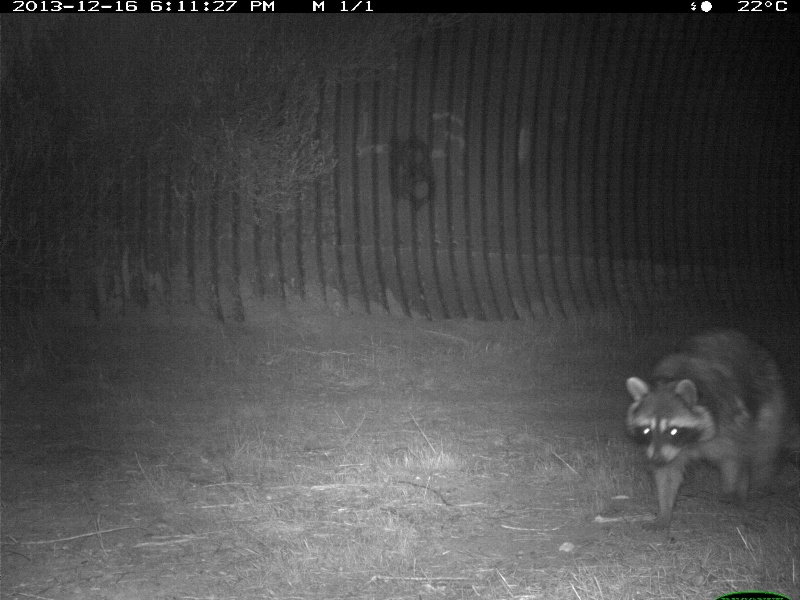raccoon: (622, 325, 788, 535)
